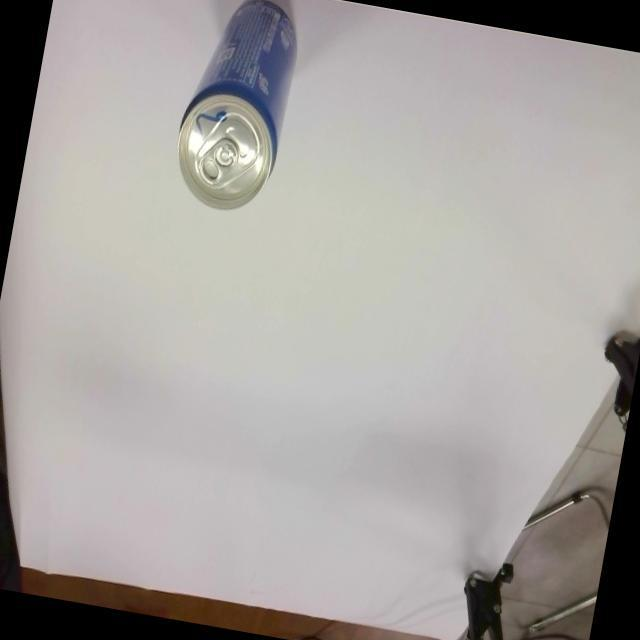debris: (164, 0, 305, 218)
